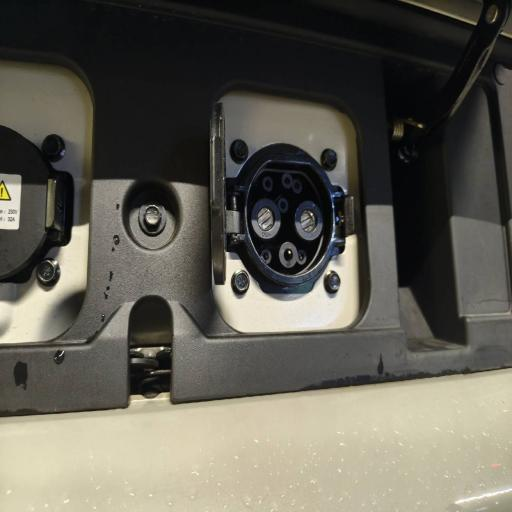DC_hole: (250, 197, 282, 241), (293, 198, 324, 243)
PE: (278, 240, 298, 270)
charging_port: (240, 150, 338, 288)
